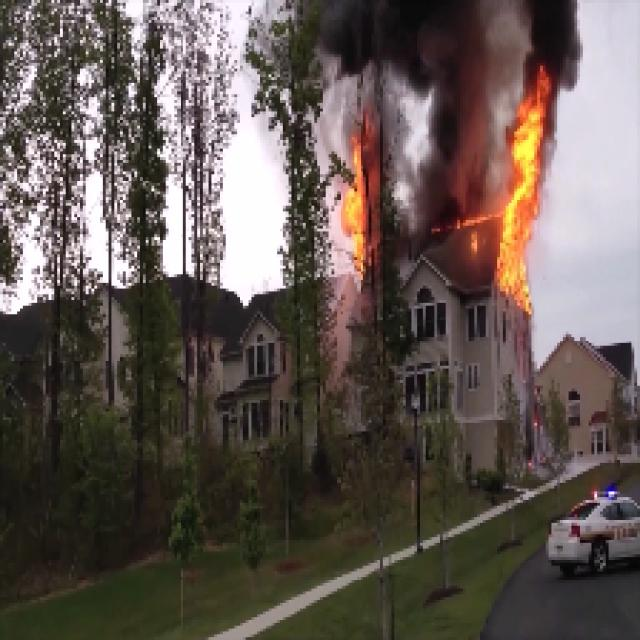fire: (494, 90, 545, 314)
smoke: (402, 8, 483, 215)
